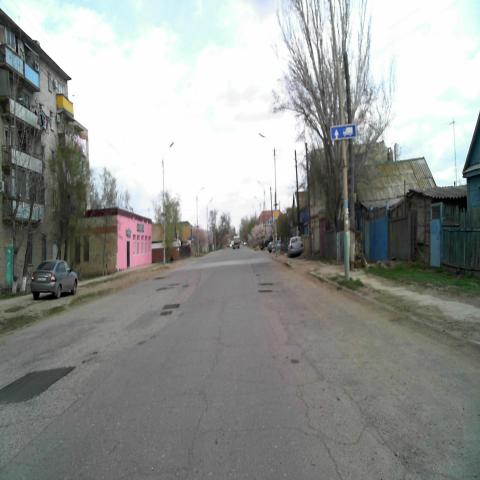6_15_1: (330, 123, 356, 139)
